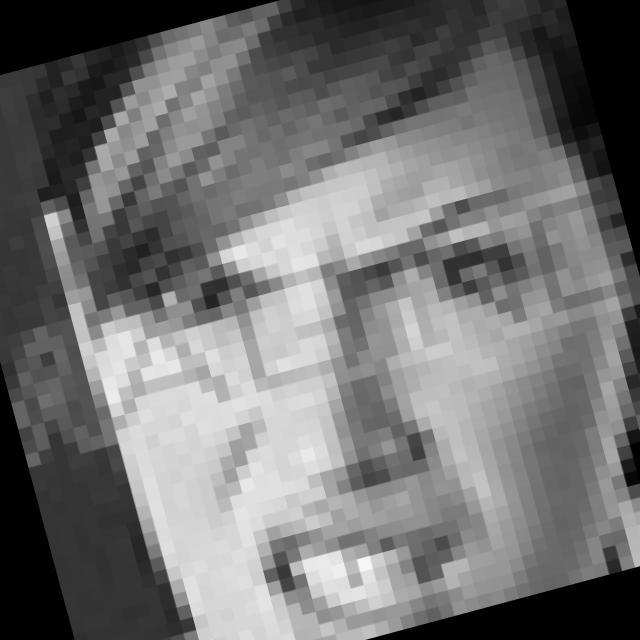angry: (123, 164, 626, 640)
